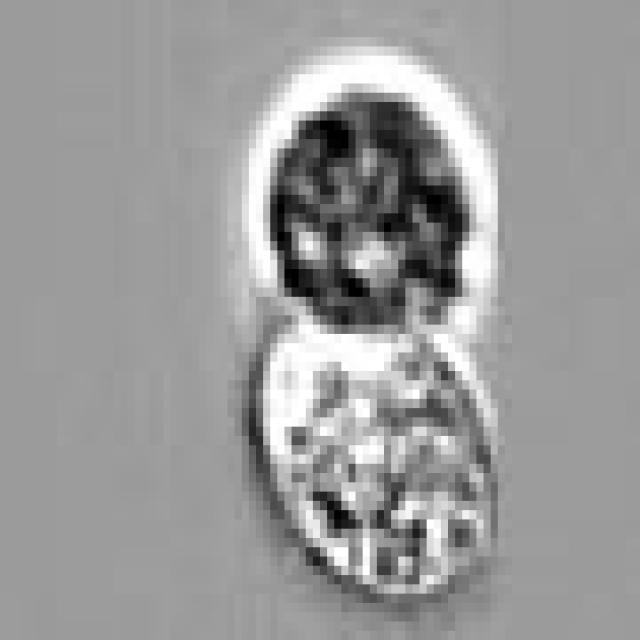Cancer Cell: (256, 297, 505, 603)
WBC: (277, 84, 483, 352)
